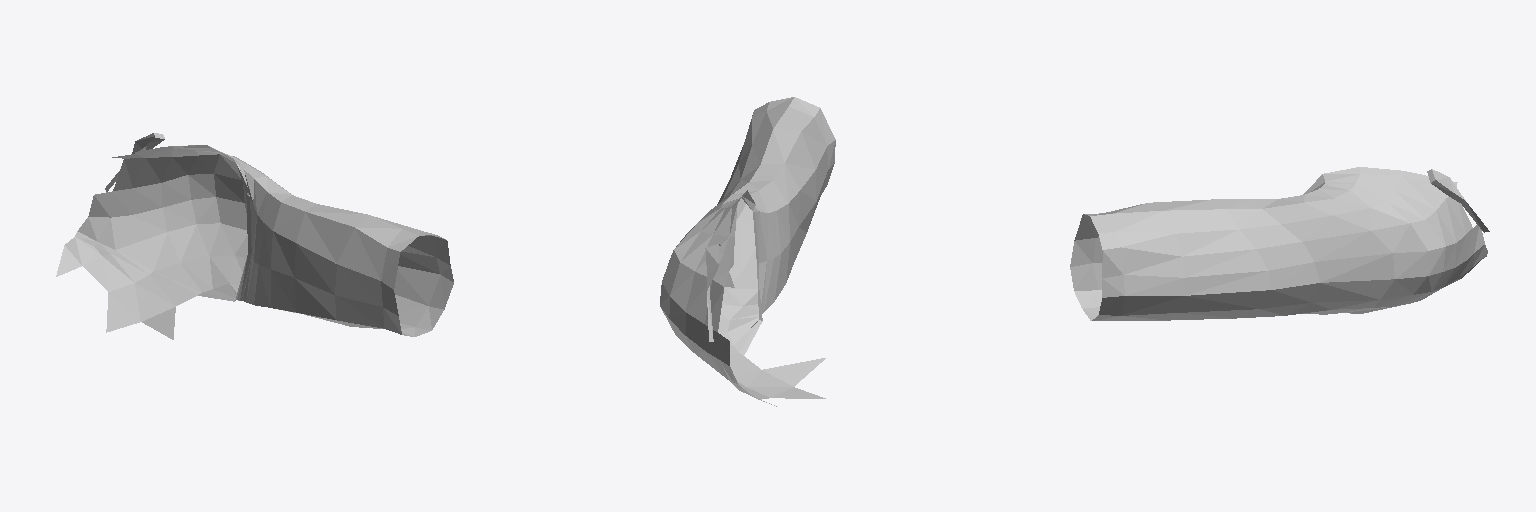
File: l_upperarm.obj
3 views of the same model, side by side, from view 1: azimuth 30°, elevation 25°; view 2: azimuth 150°, elevation 25°; view 3: azimuth 270°, elevation 25° (orthographic).
Visible parts, largest first — view 1: zoey_color_bmp_004_zoey_color_bmp.004; view 2: zoey_color_bmp_004_zoey_color_bmp.004; view 3: zoey_color_bmp_004_zoey_color_bmp.004.
Part boxes in pixels (x1,y1,x2,y2): zoey_color_bmp_004_zoey_color_bmp.004: (56, 133, 453, 339); zoey_color_bmp_004_zoey_color_bmp.004: (660, 97, 835, 406); zoey_color_bmp_004_zoey_color_bmp.004: (1070, 167, 1489, 320).
Size of the model in its own units: 8.62 by 6.36 by 14.33.